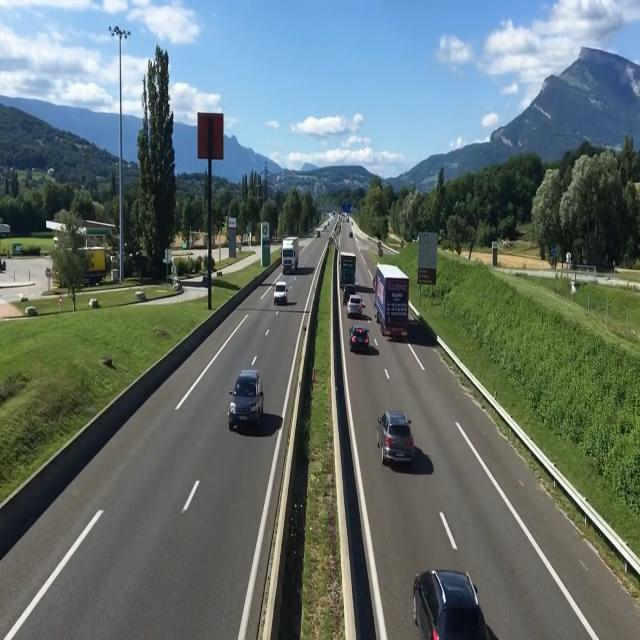car: (414, 571, 495, 640), (230, 357, 268, 437), (380, 406, 419, 474), (348, 325, 374, 355), (273, 280, 291, 312), (346, 292, 364, 323)
truck: (380, 265, 412, 345), (338, 246, 361, 292), (277, 234, 301, 275)
